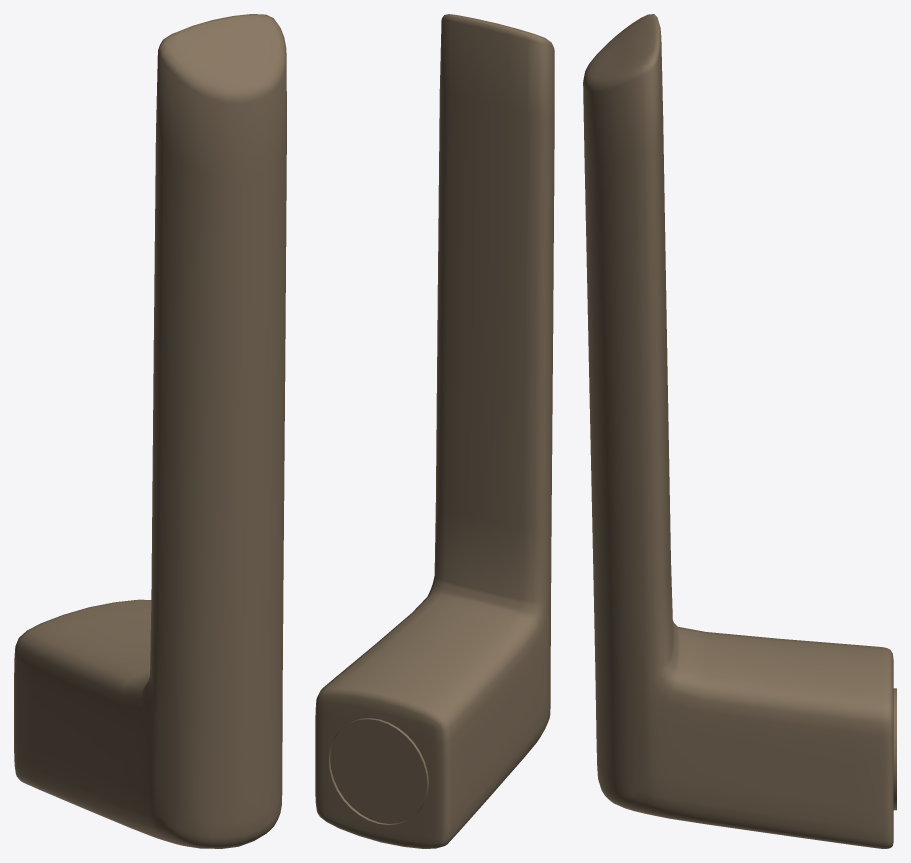
File: 9969520-handle.dae
3 views of the same model, side by side, from view 1: azimuth 30°, elevation 25°; view 2: azimuth 150°, elevation 25°; view 3: azimuth 270°, elevation 25° (orthographic). The views are drawn at different scales.
Parts seen in each view (by area): view 1: group_0.030; view 2: group_0.030, group_2.165; view 3: group_0.030.
Boxes of the visible parts, <box> form: group_0.030: <box>14,14,286,848</box>; group_0.030: <box>315,14,554,848</box>; group_2.165: <box>328,718,428,824</box>; group_0.030: <box>583,14,893,848</box>.
Size of the model in its own units: 0.0259 by 0.0489 by 0.1368.
